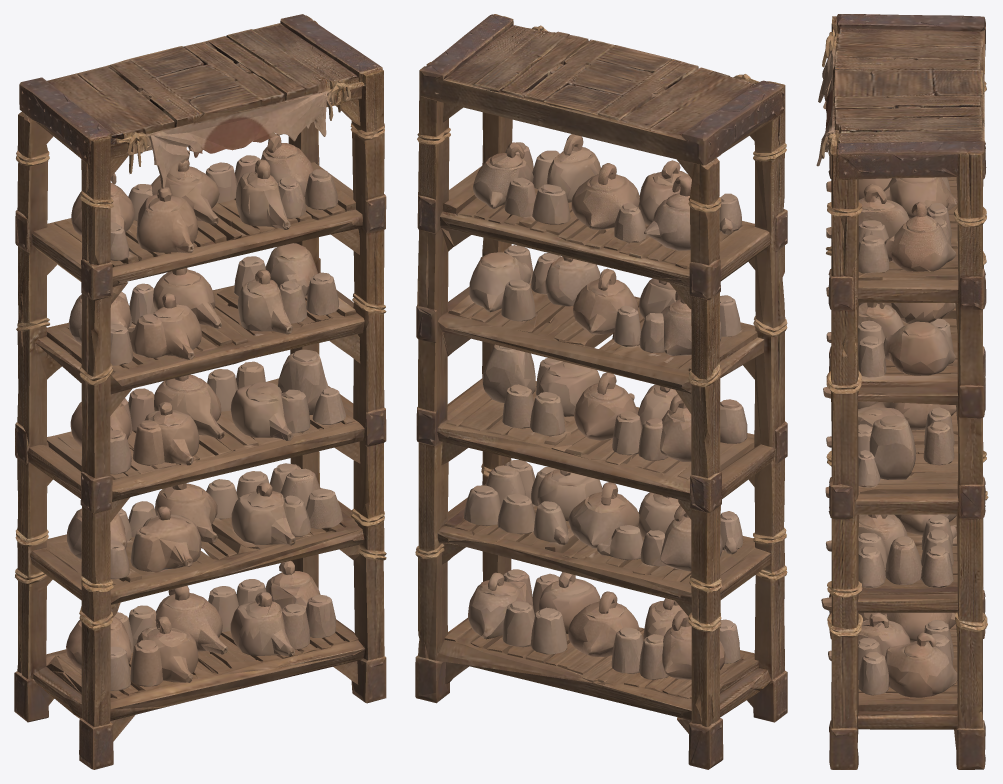
Rendered from teaware-shelf.glb.
3 renders of one model, left to right at view 1: azimuth 30°, elevation 25°; view 2: azimuth 150°, elevation 25°; view 3: azimuth 270°, elevation 25°, orthographic. The views are drawn at different scales.
Parts seen in each view (by area): view 1: output_unwrapped; view 2: output_unwrapped; view 3: output_unwrapped.
Boxes of the visible parts, bbox=[...] form: output_unwrapped: bbox=[14, 14, 386, 769]; output_unwrapped: bbox=[415, 14, 787, 769]; output_unwrapped: bbox=[816, 14, 988, 769].
Size of the model in its own units: 0.9464 by 1.9 by 0.4803.
1 material, 1 textured.
